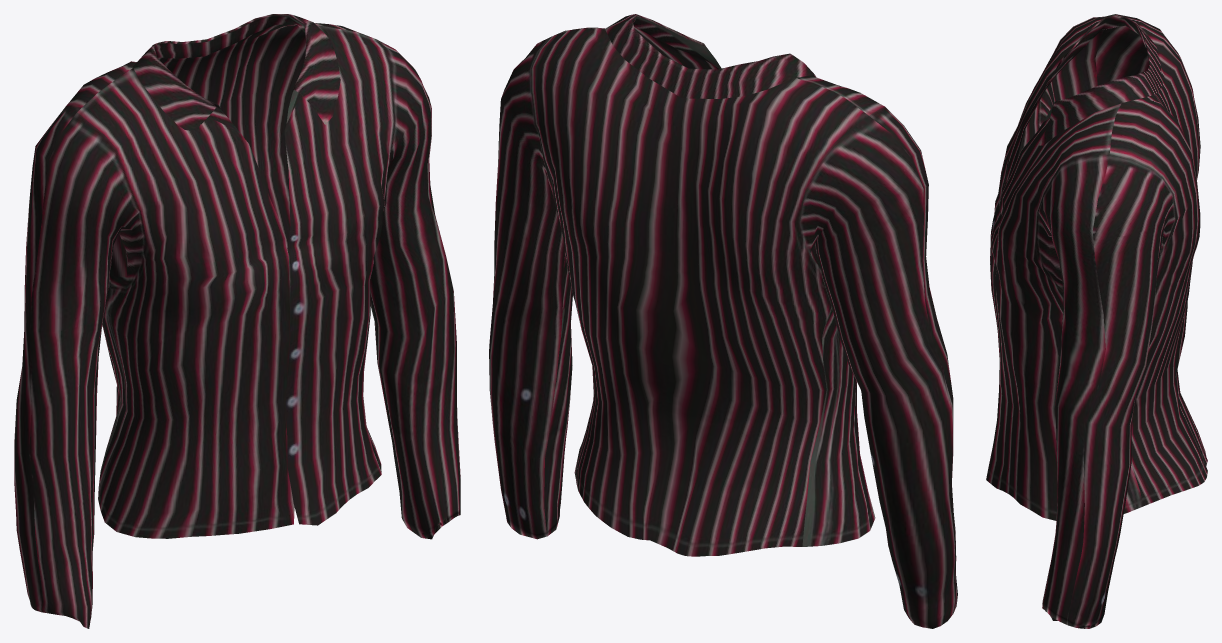
File: top_striped_blouse.gltf
3 renders of one model, left to right at view 1: azimuth 30°, elevation 25°; view 2: azimuth 150°, elevation 25°; view 3: azimuth 270°, elevation 25°, orthographic. The views are drawn at different scales.
Parts seen in each view (by area): view 1: top_striped_blouse; view 2: top_striped_blouse; view 3: top_striped_blouse.
Part boxes in pixels (box(x1,y1,x2,y2)): top_striped_blouse: box(14, 14, 460, 628); top_striped_blouse: box(489, 14, 957, 628); top_striped_blouse: box(986, 14, 1207, 628).
Size of the model in its own units: 0.5369 by 0.6301 by 0.2549.
Materials: 1 (1 with a texture image).
